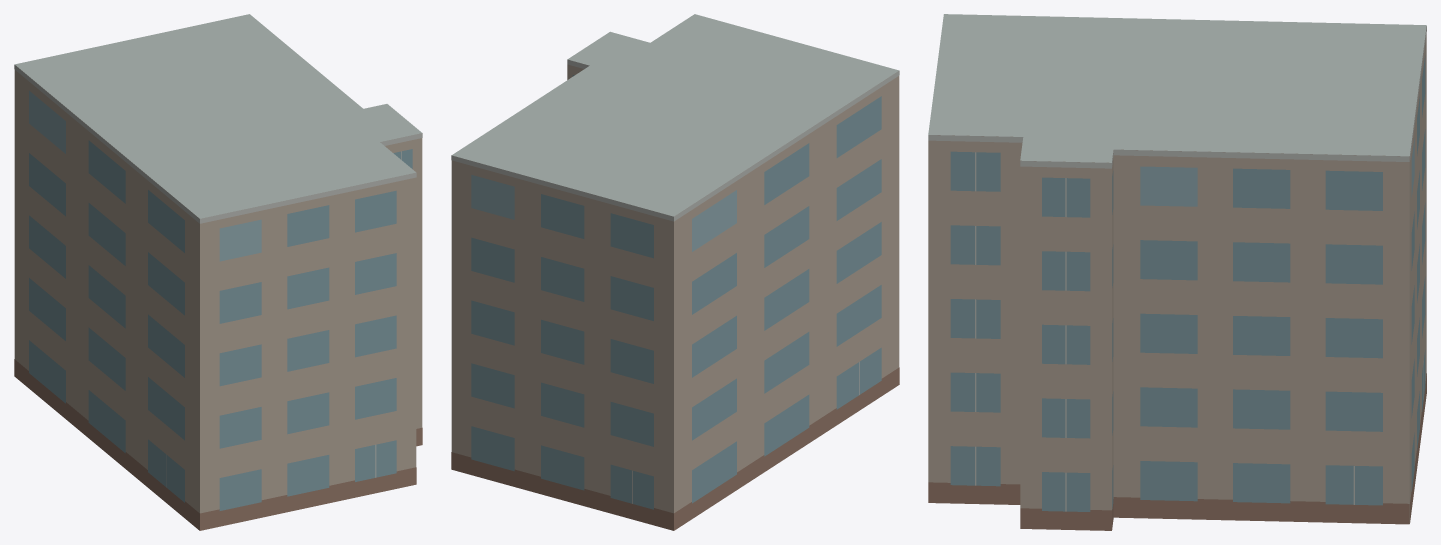
The model's file is survey-upis-32757481.glb.
3 views of the same model, side by side, from view 1: azimuth 30°, elevation 25°; view 2: azimuth 150°, elevation 25°; view 3: azimuth 270°, elevation 25° (orthographic). The views are drawn at different scales.
Parts seen in each view (by area): view 1: survey-upis-32757481.tmp; view 2: survey-upis-32757481.tmp; view 3: survey-upis-32757481.tmp.
Boxes of the visible parts, x1,y1,x2,y2 form: survey-upis-32757481.tmp: (14,14,422,530); survey-upis-32757481.tmp: (451,14,899,530); survey-upis-32757481.tmp: (928,14,1426,530).
Bounding box in the file's own units: 13.45 × 15.5 × 19.04.
